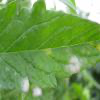Tomato mold leaf: (0, 1, 100, 95)
